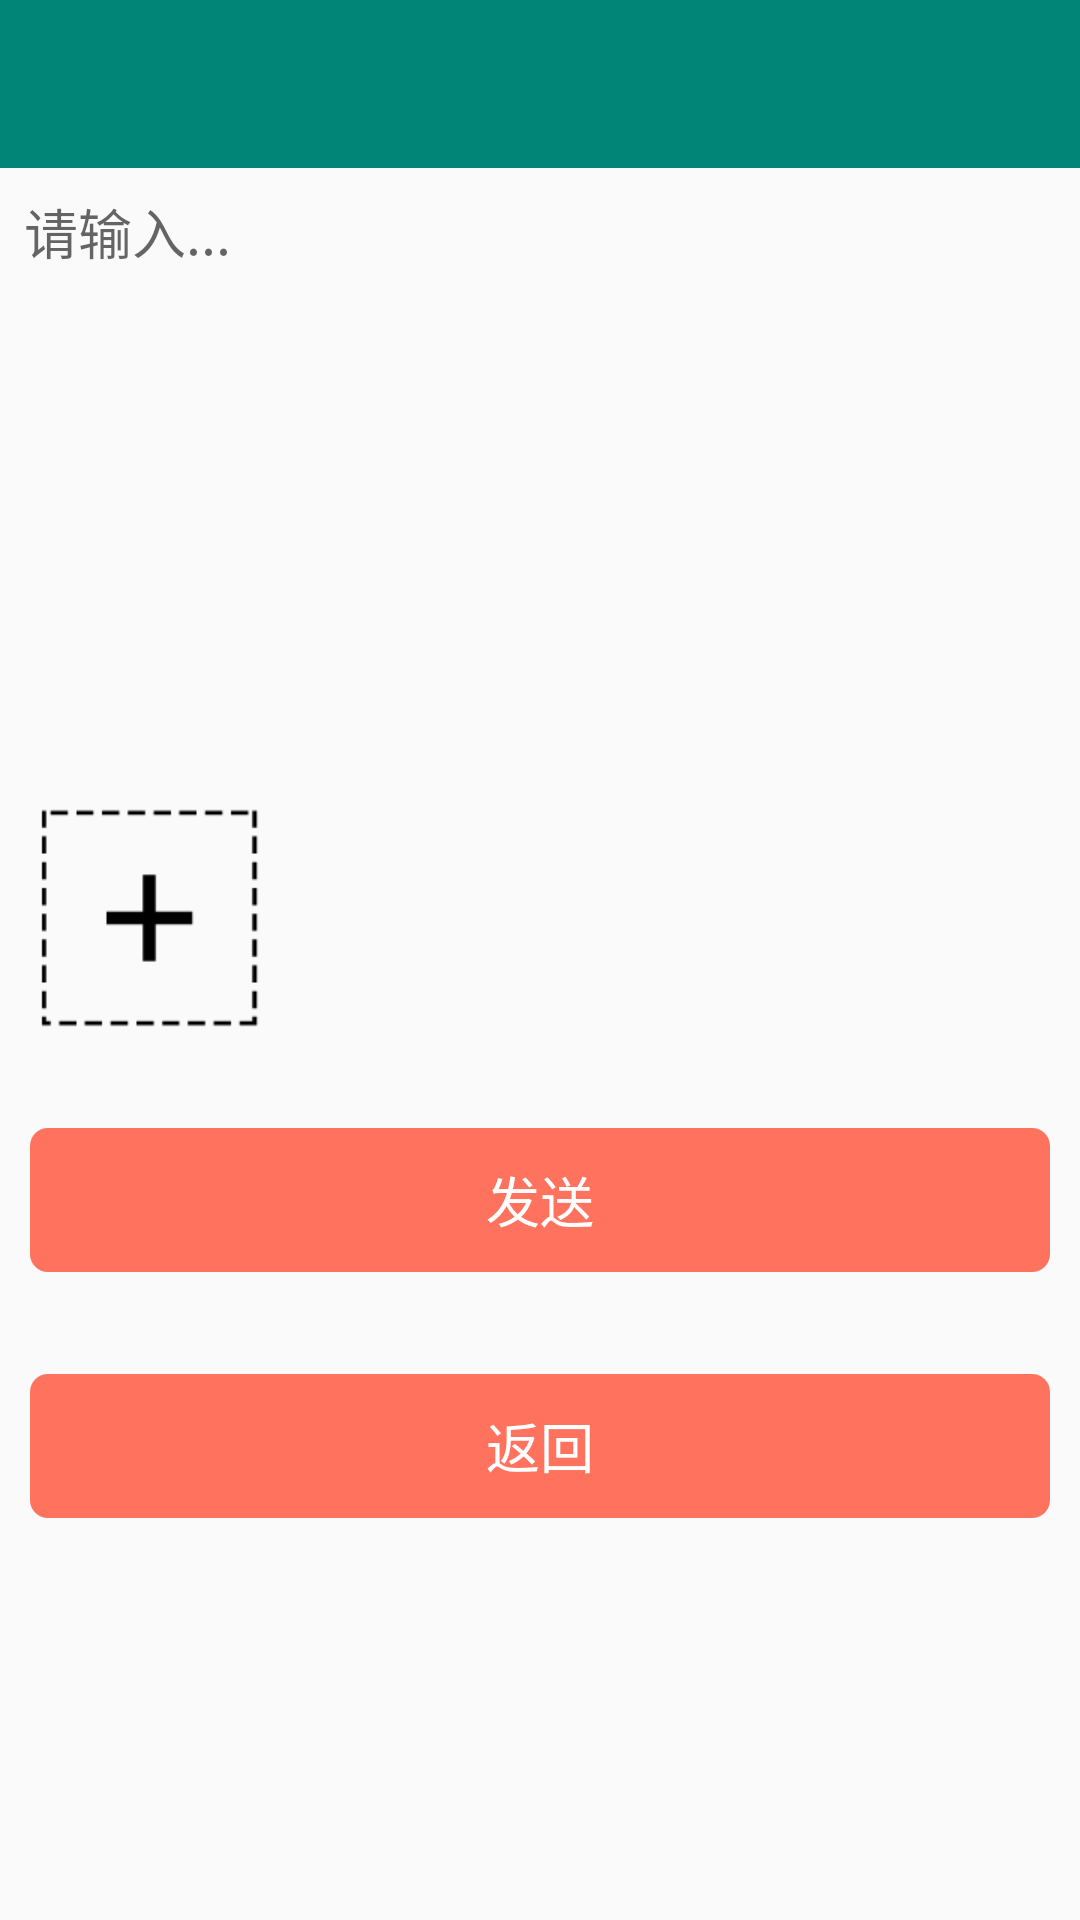

Point at icon controls on the screen. Image size 1080x1920, points as (x=x, y=y).
addpicture: (x=149, y=918)
